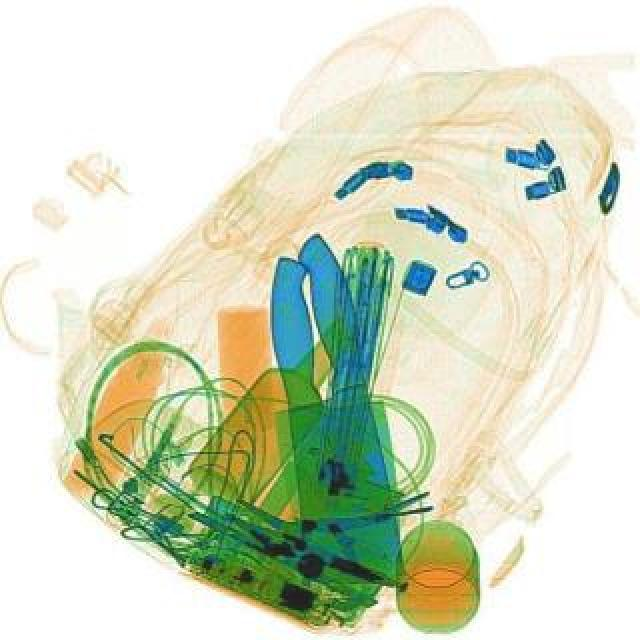knife: (232, 230, 404, 600), (260, 246, 404, 584)
